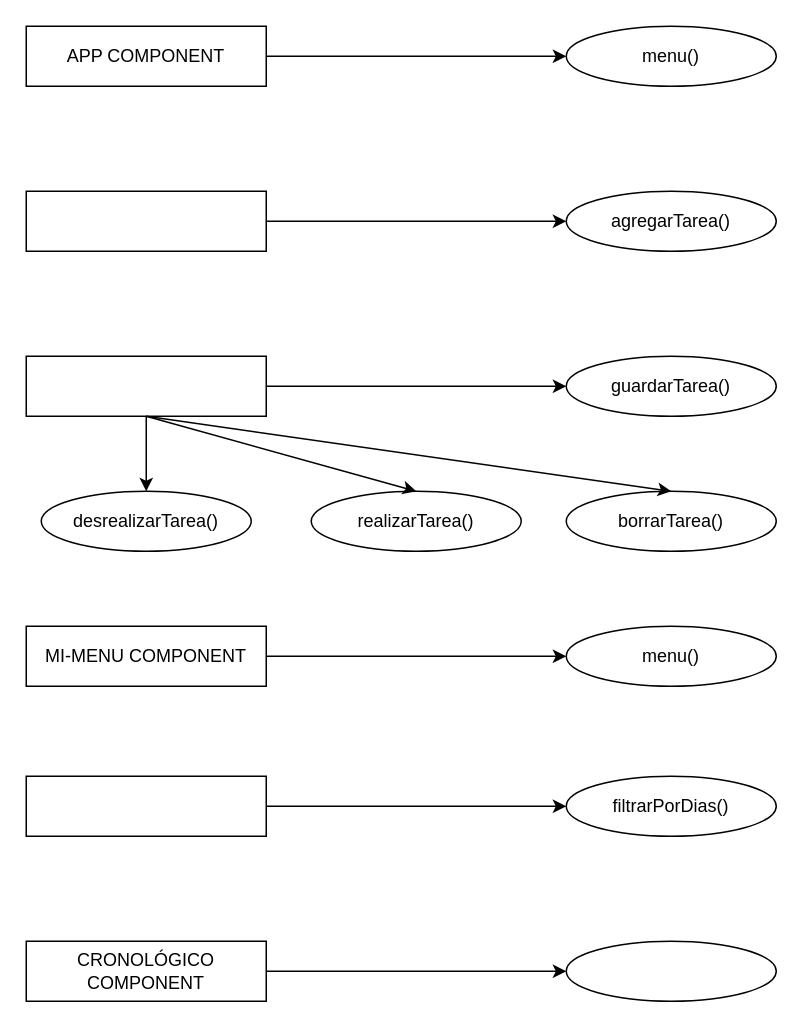
Some shapes in this 803 by 1028 pixel diagram are drawn without their labels. The centre of each missing label's shape, as x and y in pixels:
DIA COMPONENT: (x=145, y=805)
MI-LISTA COMPONENT: (x=145, y=220)
ordenarFechas(): (x=670, y=970)
TAREA COMPONENT: (x=145, y=385)
